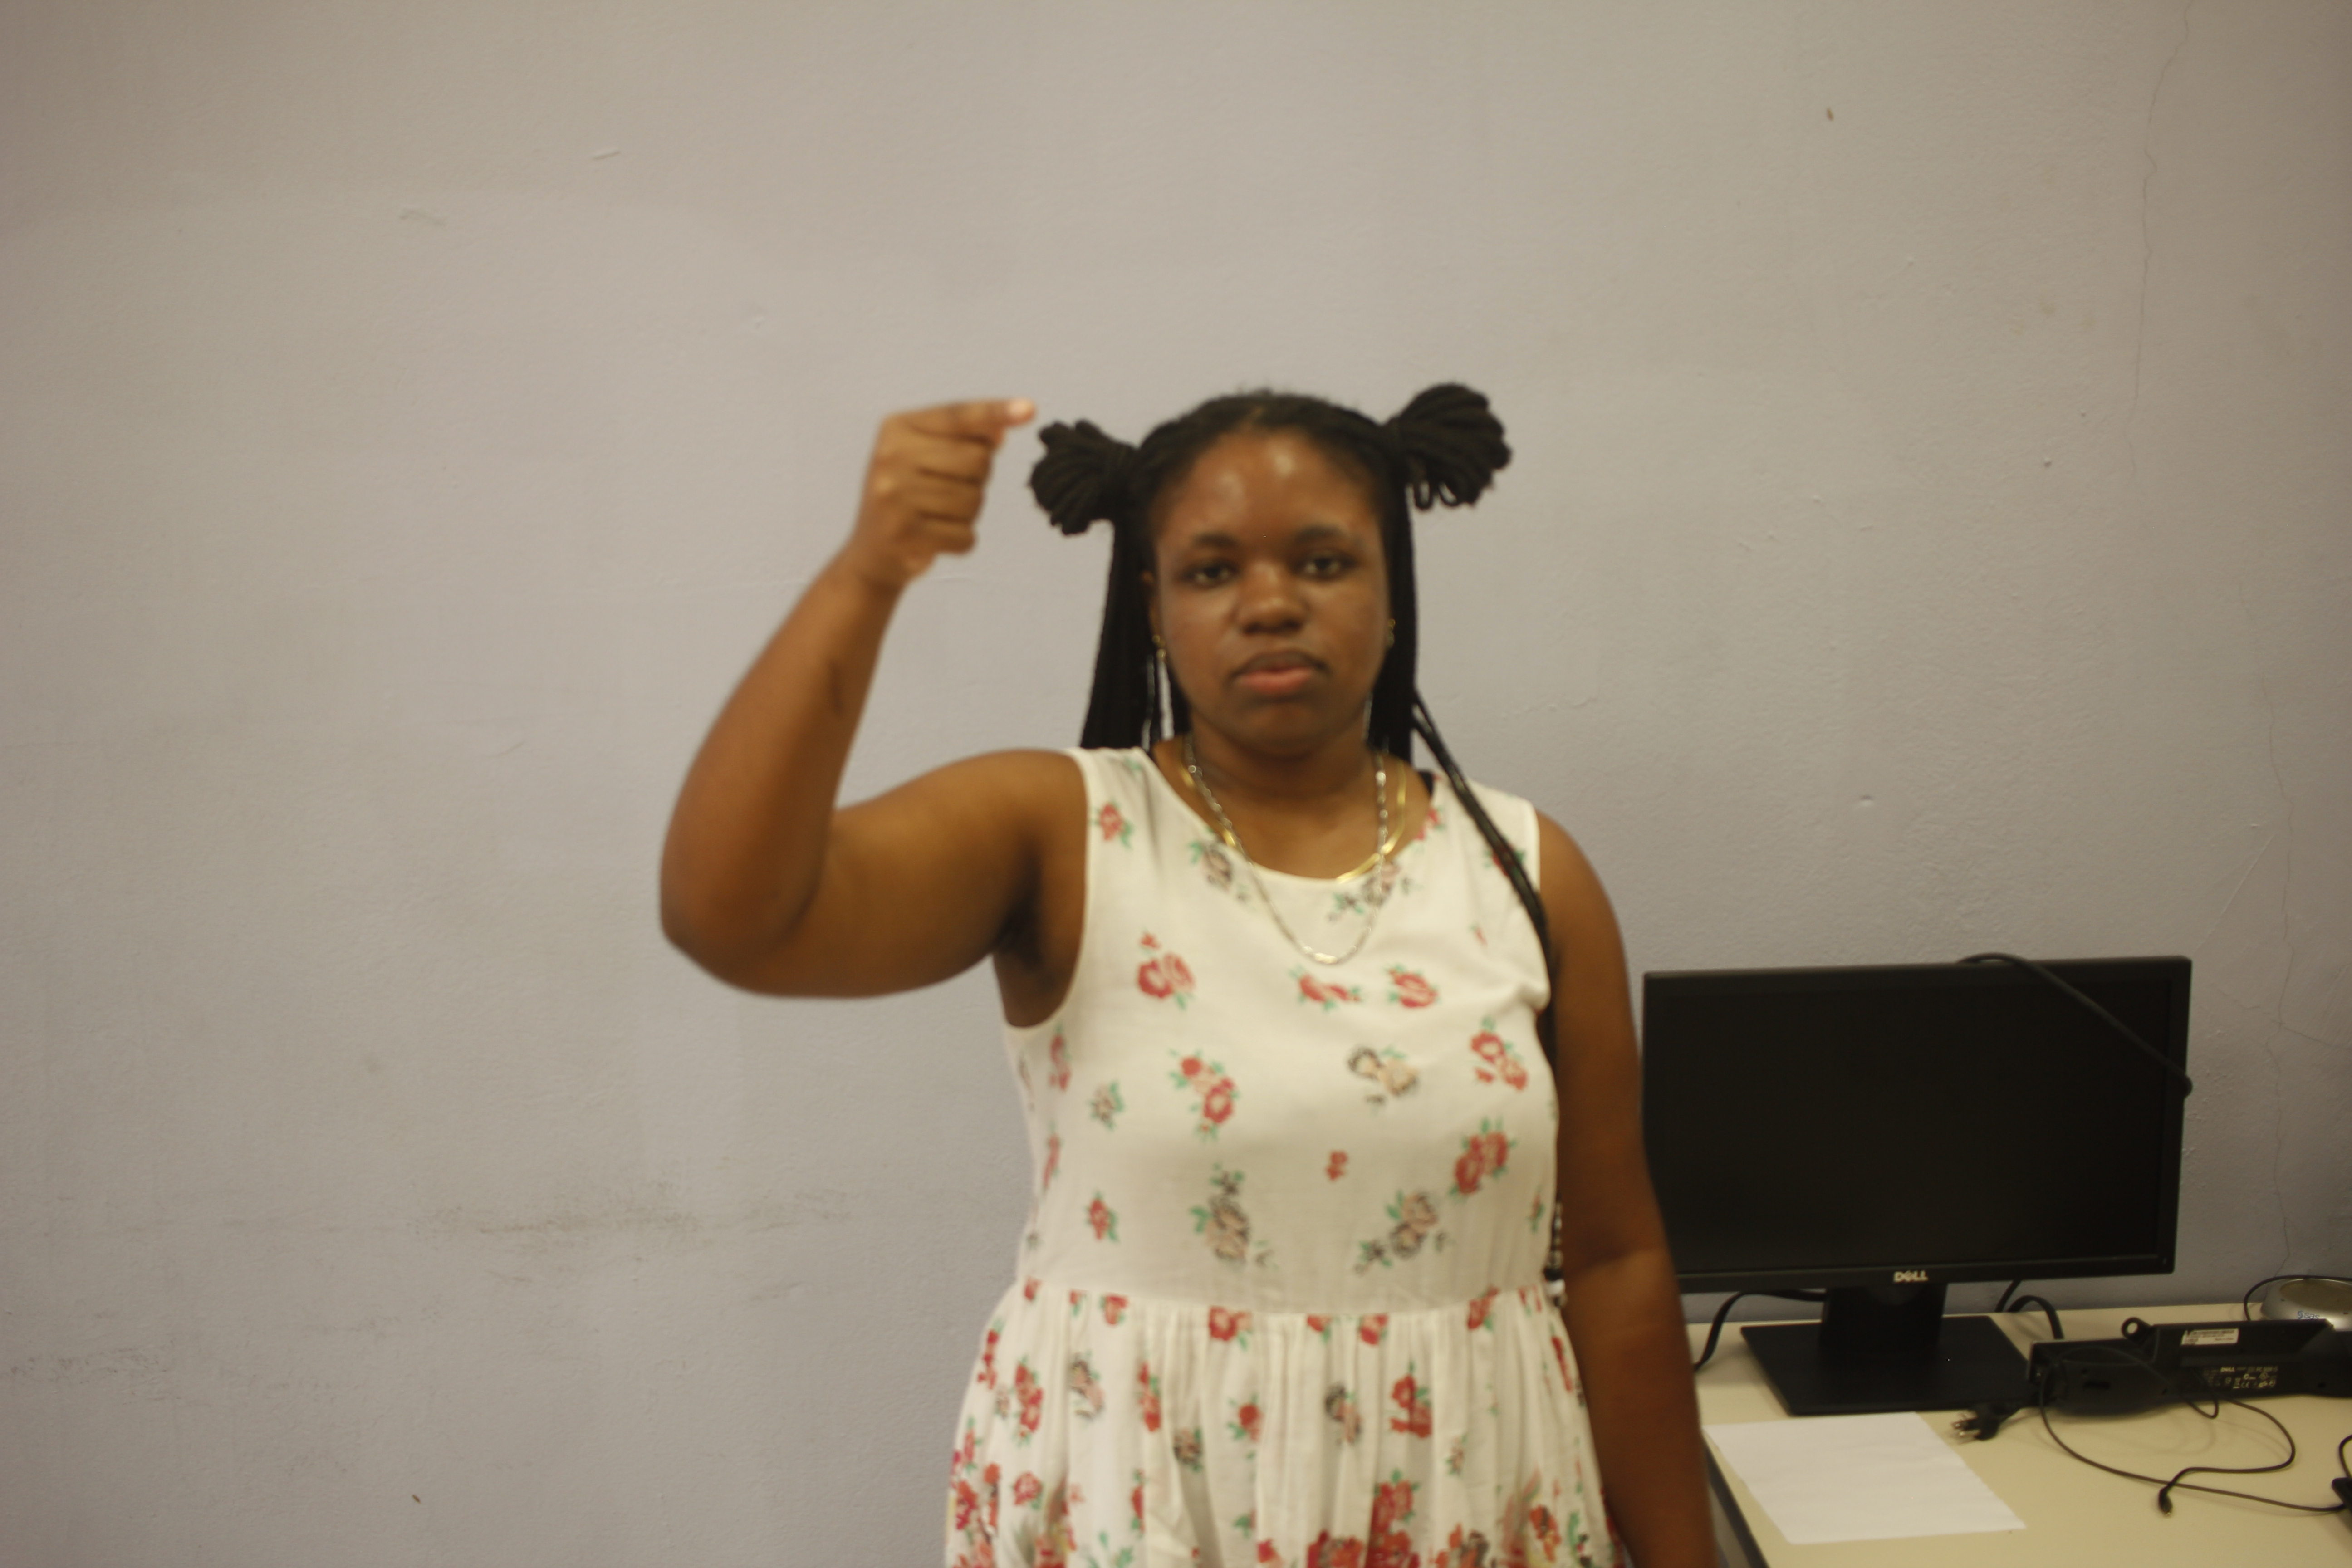comma: (856, 385, 1050, 574)
